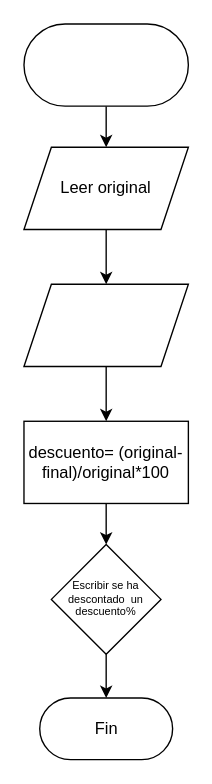
Image size: 212x784. Some labels were removed from this diagram. The centre of each missing label's shape, as x and y in pixels:
"Inicio" belongs at point (105, 64).
"Leer final" belongs at point (105, 324).
